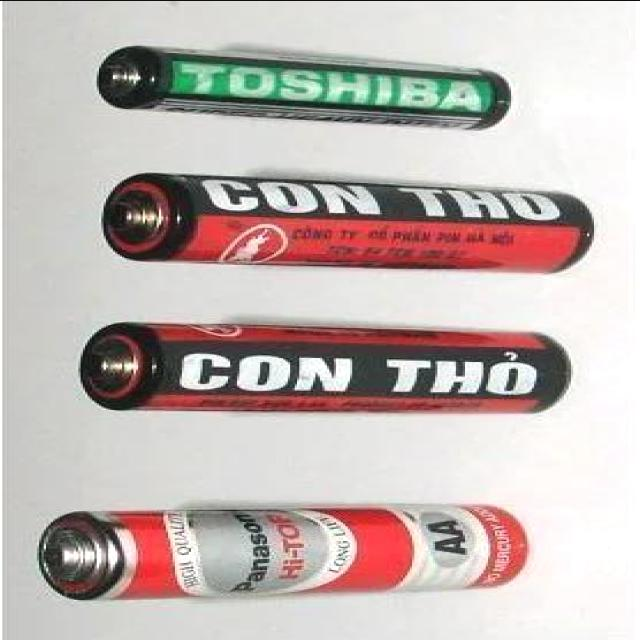AA: (96, 170, 603, 276), (31, 498, 538, 602), (73, 318, 581, 416), (93, 41, 518, 133)
